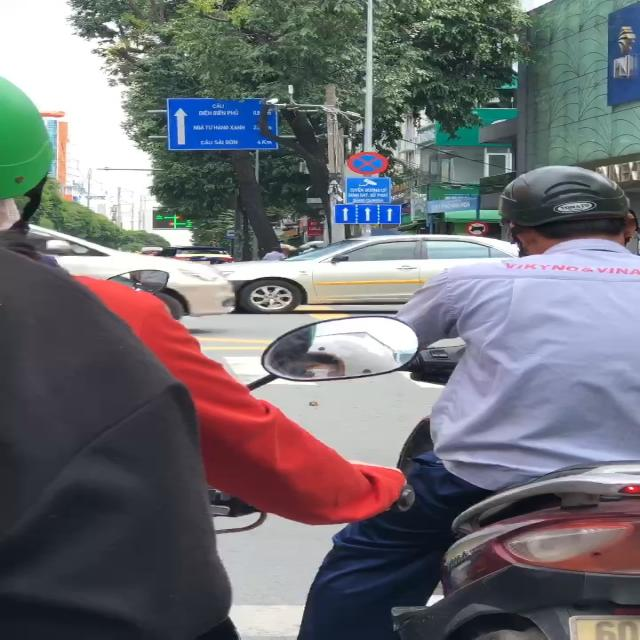Bien bao cam dung xe va do xe: (346, 150, 395, 177)
